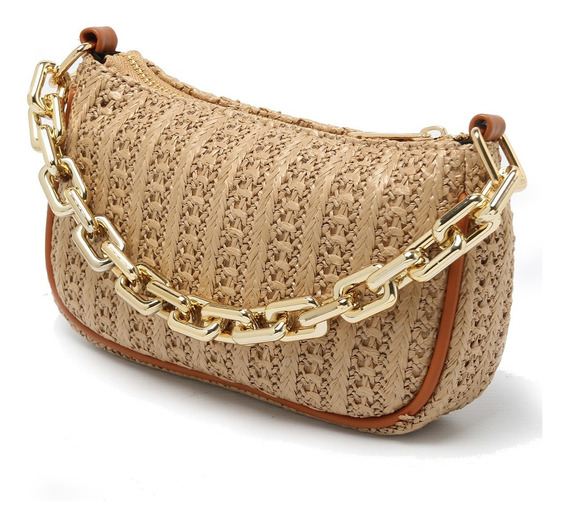cartera: (26, 24, 528, 440)
